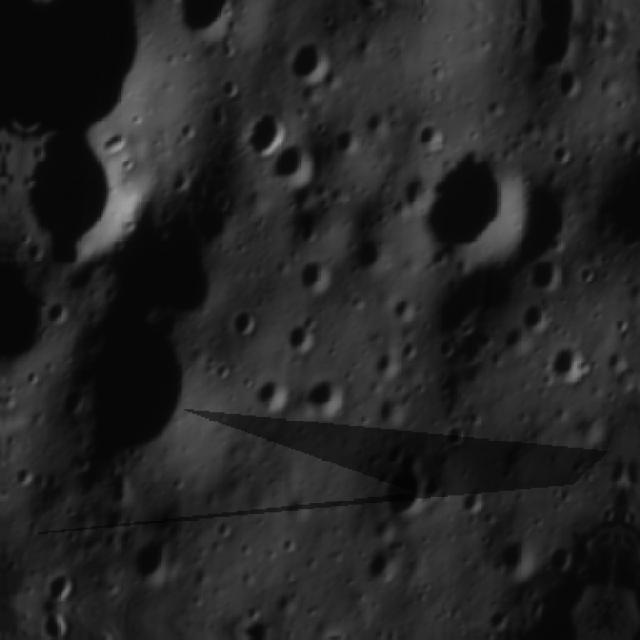crater: (54, 303, 206, 483), (10, 121, 144, 264), (26, 0, 163, 131), (412, 150, 531, 278), (506, 165, 588, 263), (375, 456, 433, 524), (239, 104, 290, 167), (263, 133, 319, 190), (169, 0, 237, 46), (293, 371, 349, 424), (124, 531, 174, 587), (541, 338, 593, 390), (523, 24, 577, 73), (285, 34, 332, 89), (278, 311, 322, 366), (390, 169, 433, 223), (347, 225, 391, 277), (490, 534, 536, 578), (519, 255, 566, 298), (355, 542, 397, 584), (546, 59, 582, 104), (248, 374, 287, 415), (451, 479, 487, 521), (295, 257, 330, 300), (410, 114, 444, 158), (39, 567, 76, 605), (513, 298, 549, 336), (369, 348, 403, 384), (375, 392, 408, 428), (388, 292, 422, 326), (4, 458, 36, 494), (40, 294, 71, 329), (226, 307, 256, 336), (441, 419, 465, 448), (348, 1, 387, 16), (311, 626, 349, 640), (501, 20, 534, 29)
